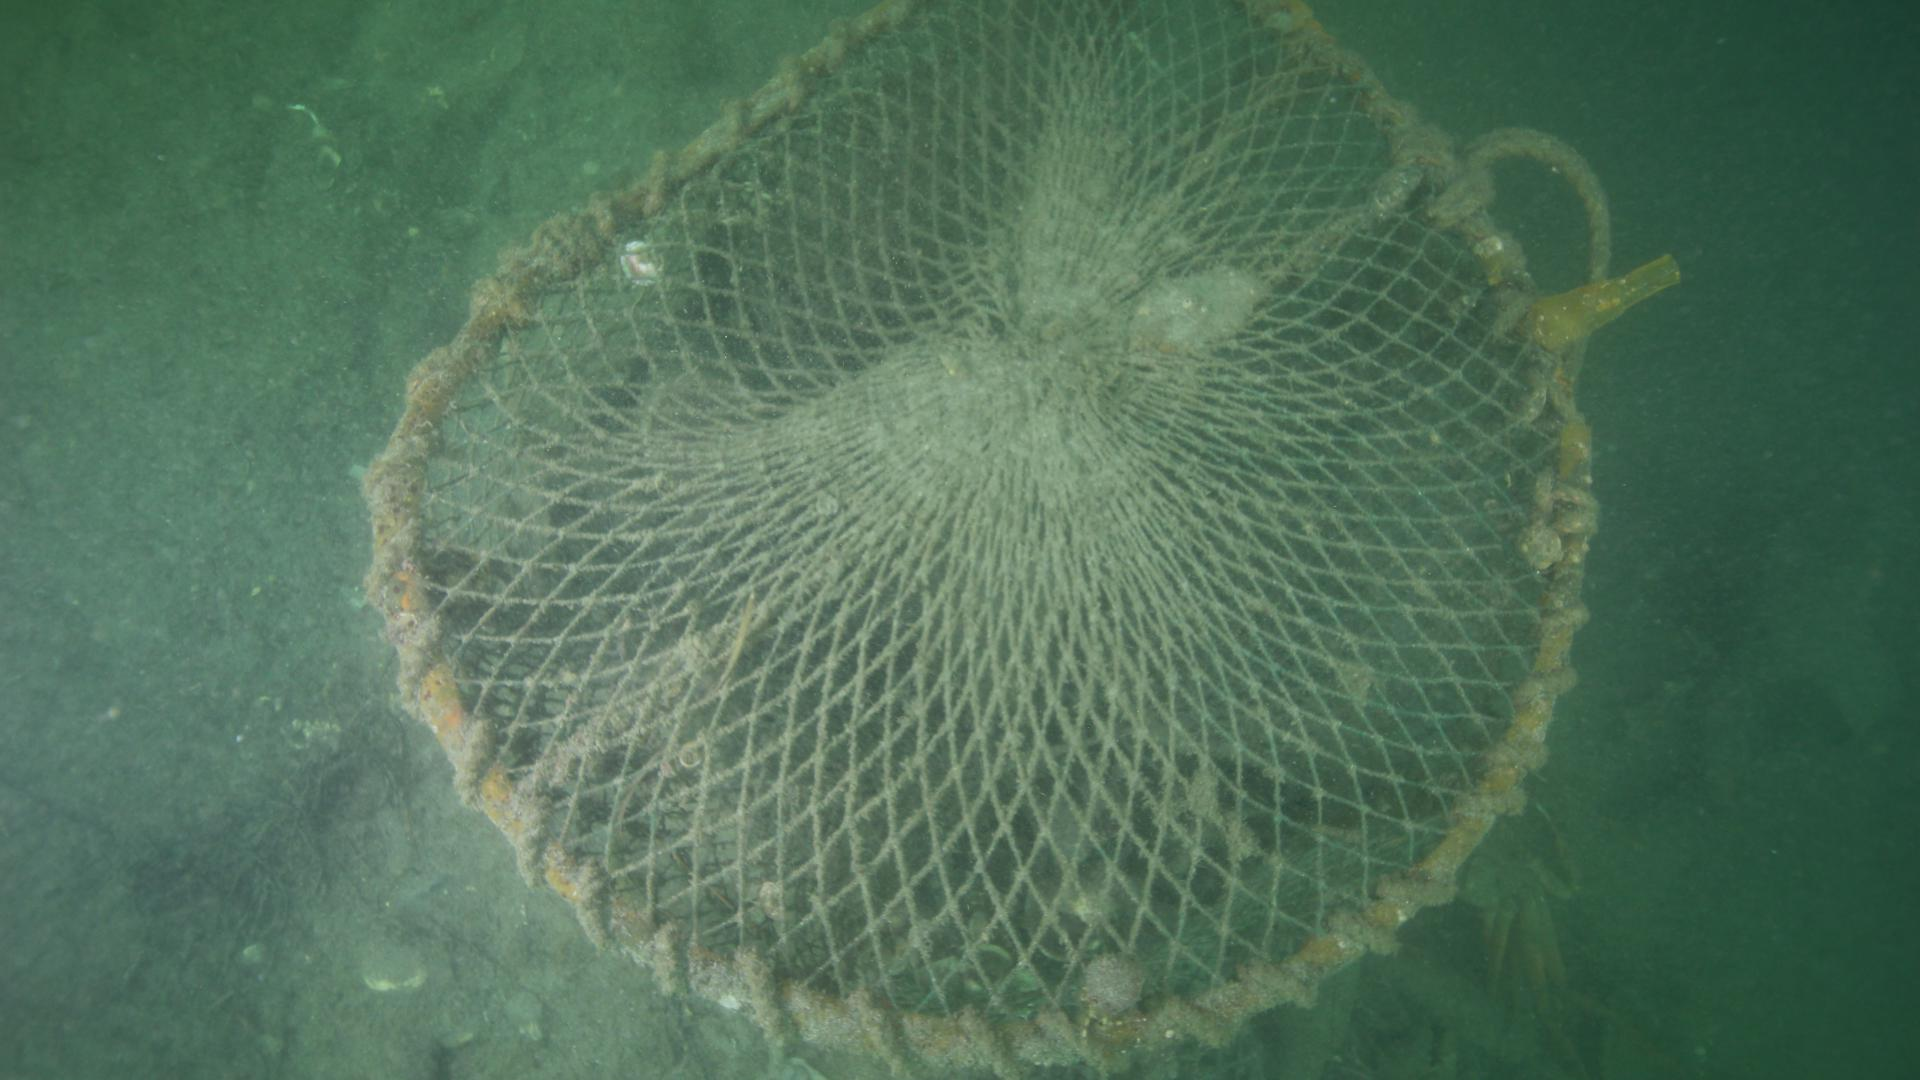circular fish trap: (371, 0, 1602, 1069)
